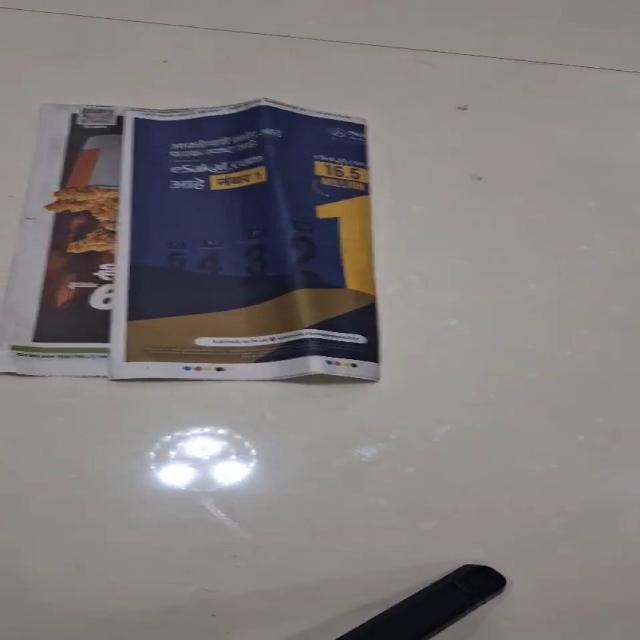paper: (107, 97, 380, 382)
